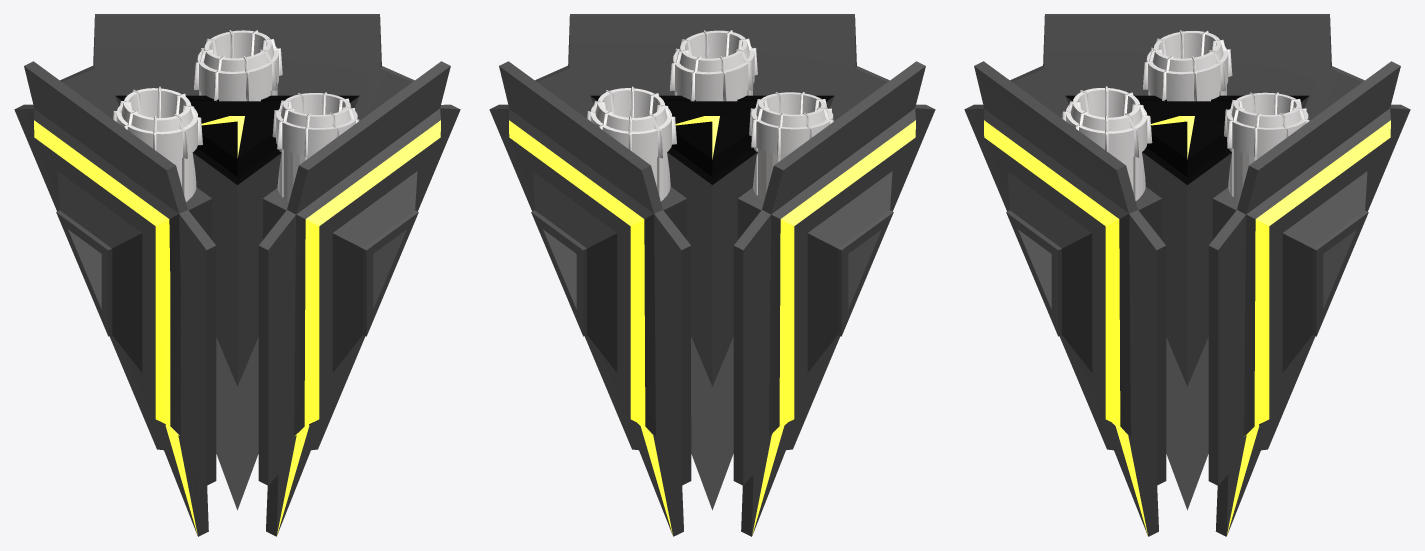
Rendered from Ennemy.fbx.
3 renders of one model, left to right at view 1: azimuth 30°, elevation 25°; view 2: azimuth 150°, elevation 25°; view 3: azimuth 270°, elevation 25°, orthographic.
Visible parts, largest first — view 1: Cylinder014; view 2: Cylinder014; view 3: Cylinder014.
Part boxes in pixels (<box>): Cylinder014: <box>14,14,460,536</box>; Cylinder014: <box>489,14,935,536</box>; Cylinder014: <box>964,14,1410,536</box>.
Size of the model in its own units: 347 by 408 by 370.
